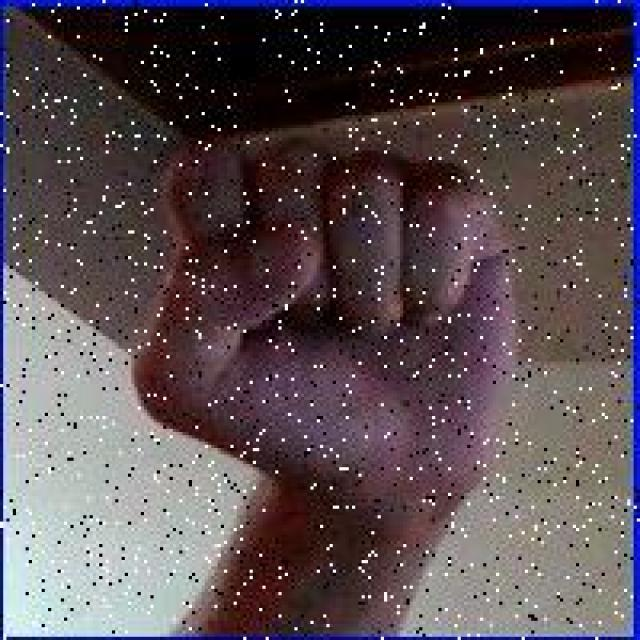S: (130, 130, 523, 510)
